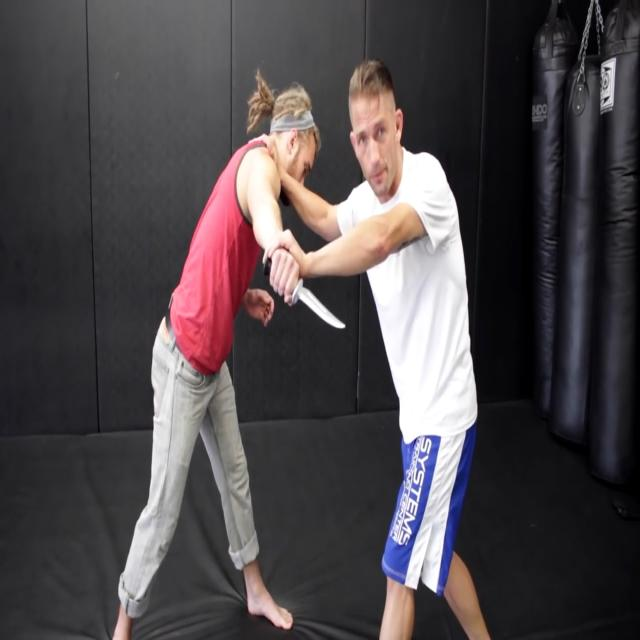knife: (294, 280, 349, 335)
